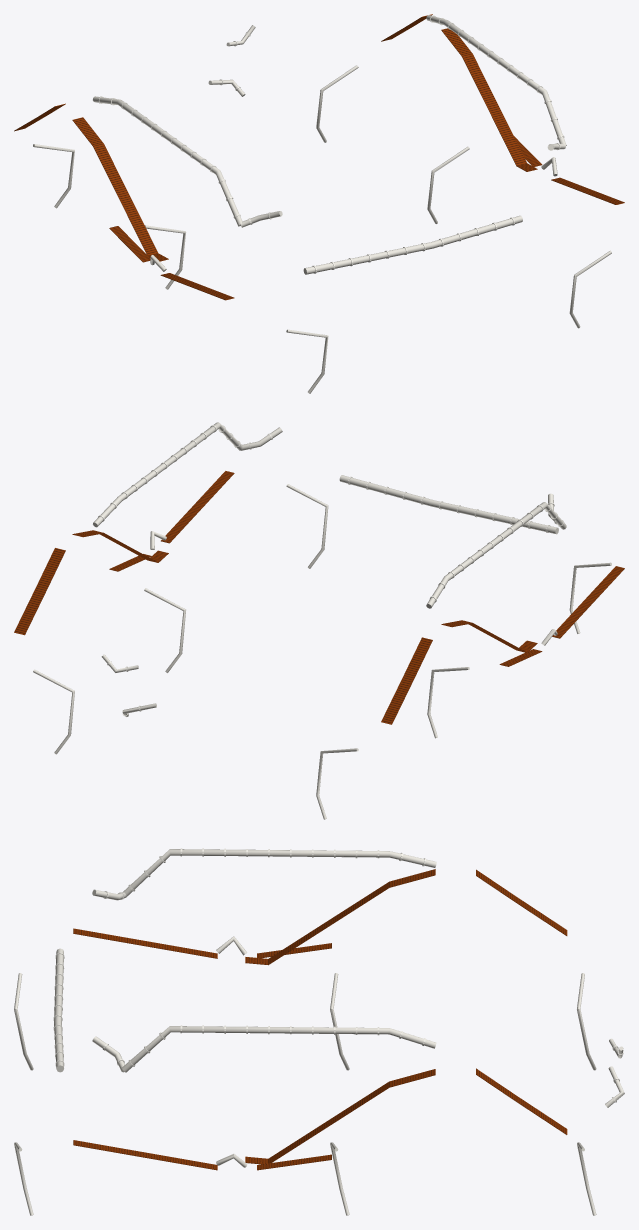
The model's file is sojourner-harness.glb.
3 views of the same model, one above another, from view 1: azimuth 30°, elevation 25°; view 2: azimuth 150°, elevation 25°; view 3: azimuth 270°, elevation 25° (orthographic). The views are drawn at different scales.
Parts seen in each view (by area): view 1: HARNESS_FRONT__PTFE_CABLE_WHITE, ROCKER_LEFT_FRONT_HALF_HARNESS__POLYIMIDE_FLEX, ROCKER_RIGHT_FRONT_HALF_HARNESS__POLYIMIDE_FLEX, HARNESS_RIGHT_BODY__PTFE_CABLE_WHITE, HARNESS_LEFT_BODY__PTFE_CABLE_WHITE, BOGIE_RIGHT_HARNESS__POLYIMIDE_FLEX, BOGIE_LEFT_HARNESS__POLYIMIDE_FLEX; view 2: HARNESS_FRONT__PTFE_CABLE_WHITE, HARNESS_LEFT_BODY__PTFE_CABLE_WHITE, HARNESS_RIGHT_BODY__PTFE_CABLE_WHITE, ROCKER_RIGHT_REAR_HALF_HARNESS__POLYIMIDE_FLEX, ROCKER_LEFT_REAR_HALF_HARNESS__POLYIMIDE_FLEX, BOGIE_RIGHT_HARNESS__POLYIMIDE_FLEX, BOGIE_LEFT_HARNESS__POLYIMIDE_FLEX; view 3: HARNESS_LEFT_BODY__PTFE_CABLE_WHITE, HARNESS_RIGHT_BODY__PTFE_CABLE_WHITE, HARNESS_FRONT__PTFE_CABLE_WHITE, ROCKER_RIGHT_FRONT_HALF_HARNESS__POLYIMIDE_FLEX, ROCKER_LEFT_FRONT_HALF_HARNESS__POLYIMIDE_FLEX, BOGIE_LEFT_HARNESS__POLYIMIDE_FLEX, BOGIE_RIGHT_HARNESS__POLYIMIDE_FLEX, ROCKER_LEFT_REAR_HALF_HARNESS__POLYIMIDE_FLEX, ROCKER_RIGHT_REAR_HALF_HARNESS__POLYIMIDE_FLEX.
Boxes of the visible parts, x1,y1,x2,y2 form: HARNESS_FRONT__PTFE_CABLE_WHITE: [241, 143, 565, 274]; ROCKER_LEFT_FRONT_HALF_HARNESS__POLYIMIDE_FLEX: [441, 28, 537, 171]; ROCKER_RIGHT_FRONT_HALF_HARNESS__POLYIMIDE_FLEX: [72, 117, 168, 261]; HARNESS_RIGHT_BODY__PTFE_CABLE_WHITE: [93, 96, 242, 226]; HARNESS_LEFT_BODY__PTFE_CABLE_WHITE: [426, 15, 566, 145]; BOGIE_RIGHT_HARNESS__POLYIMIDE_FLEX: [109, 226, 234, 300]; BOGIE_LEFT_HARNESS__POLYIMIDE_FLEX: [514, 136, 624, 204]; HARNESS_FRONT__PTFE_CABLE_WHITE: [242, 427, 558, 534]; HARNESS_LEFT_BODY__PTFE_CABLE_WHITE: [93, 422, 242, 527]; HARNESS_RIGHT_BODY__PTFE_CABLE_WHITE: [426, 502, 566, 608]; ROCKER_RIGHT_REAR_HALF_HARNESS__POLYIMIDE_FLEX: [381, 637, 432, 724]; ROCKER_LEFT_REAR_HALF_HARNESS__POLYIMIDE_FLEX: [14, 548, 65, 635]; BOGIE_RIGHT_HARNESS__POLYIMIDE_FLEX: [499, 566, 624, 666]; BOGIE_LEFT_HARNESS__POLYIMIDE_FLEX: [109, 471, 234, 571]; HARNESS_LEFT_BODY__PTFE_CABLE_WHITE: [122, 1026, 436, 1072]; HARNESS_RIGHT_BODY__PTFE_CABLE_WHITE: [123, 849, 436, 897]; HARNESS_FRONT__PTFE_CABLE_WHITE: [54, 889, 126, 1072]; ROCKER_RIGHT_FRONT_HALF_HARNESS__POLYIMIDE_FLEX: [245, 869, 435, 965]; ROCKER_LEFT_FRONT_HALF_HARNESS__POLYIMIDE_FLEX: [245, 1069, 435, 1164]; BOGIE_LEFT_HARNESS__POLYIMIDE_FLEX: [73, 1140, 331, 1170]; BOGIE_RIGHT_HARNESS__POLYIMIDE_FLEX: [73, 928, 331, 958]; ROCKER_LEFT_REAR_HALF_HARNESS__POLYIMIDE_FLEX: [476, 1068, 567, 1134]; ROCKER_RIGHT_REAR_HALF_HARNESS__POLYIMIDE_FLEX: [476, 869, 567, 935].
Bounding box in the file's own units: 0.4503 × 0.1969 × 0.5298.
Materials: 3 (2 with a texture image).
